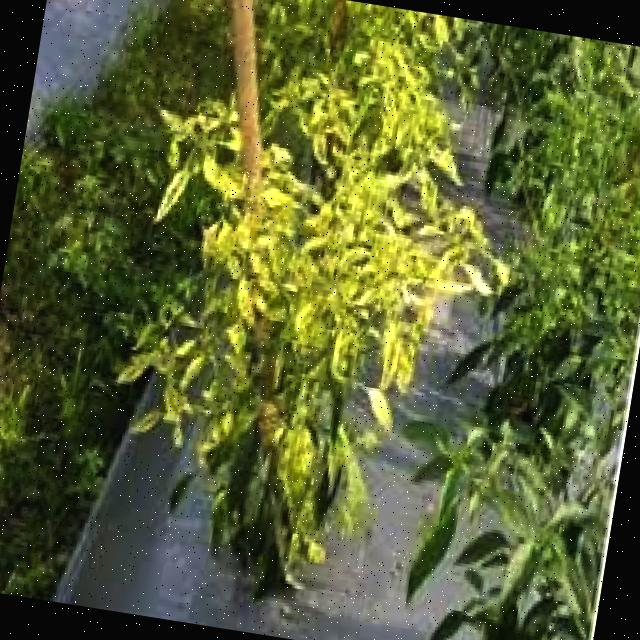yellow: (94, 11, 548, 605)
